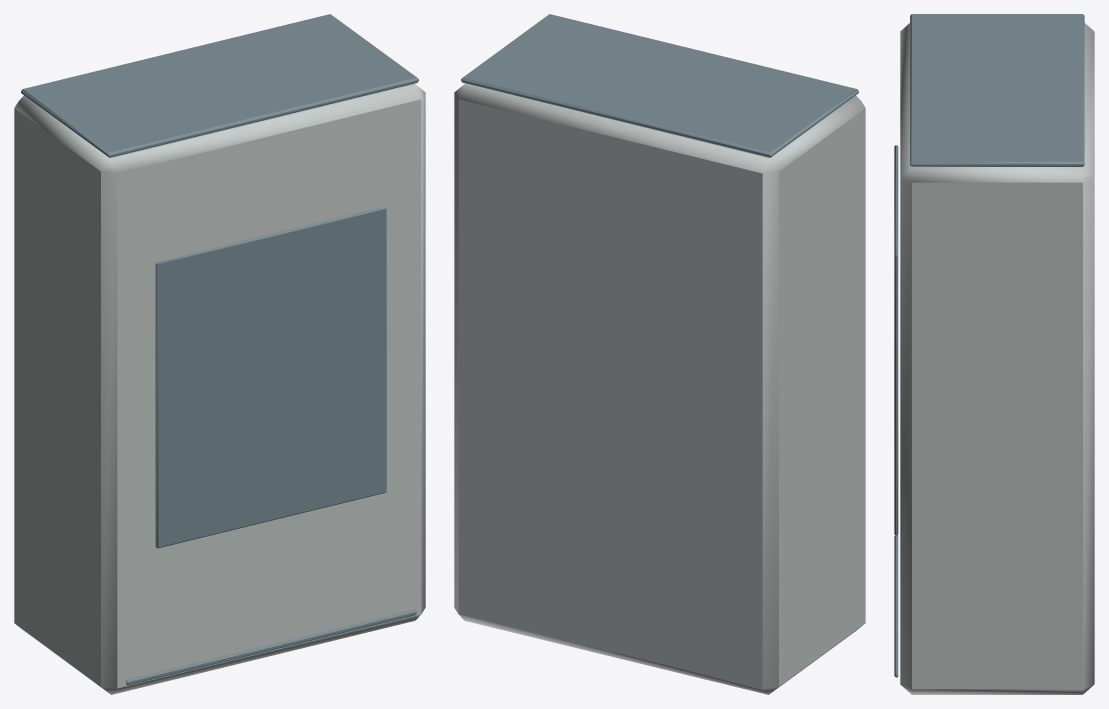
File: product-box.glb
3 views of the same model, side by side, from view 1: azimuth 30°, elevation 25°; view 2: azimuth 150°, elevation 25°; view 3: azimuth 270°, elevation 25° (orthographic).
Visible parts, largest first — view 1: folding_carton, raised_label_panel, top_flap, bottom_fold; view 2: folding_carton, top_flap; view 3: folding_carton, top_flap, raised_label_panel, bottom_fold.
Part boxes in pixels (x1=…): folding_carton: x1=14, y1=83, x2=425, y2=694; raised_label_panel: x1=155, y1=206, x2=386, y2=548; top_flap: x1=21, y1=14, x2=418, y2=157; bottom_fold: x1=126, y1=609, x2=416, y2=685; folding_carton: x1=454, y1=83, x2=865, y2=694; top_flap: x1=461, y1=14, x2=858, y2=157; folding_carton: x1=900, y1=23, x2=1094, y2=694; top_flap: x1=910, y1=14, x2=1084, y2=166; raised_label_panel: x1=894, y1=145, x2=898, y2=535; bottom_fold: x1=894, y1=535, x2=898, y2=677.
Bounding box in the file's own units: 0.19 × 0.3035 × 0.103.
